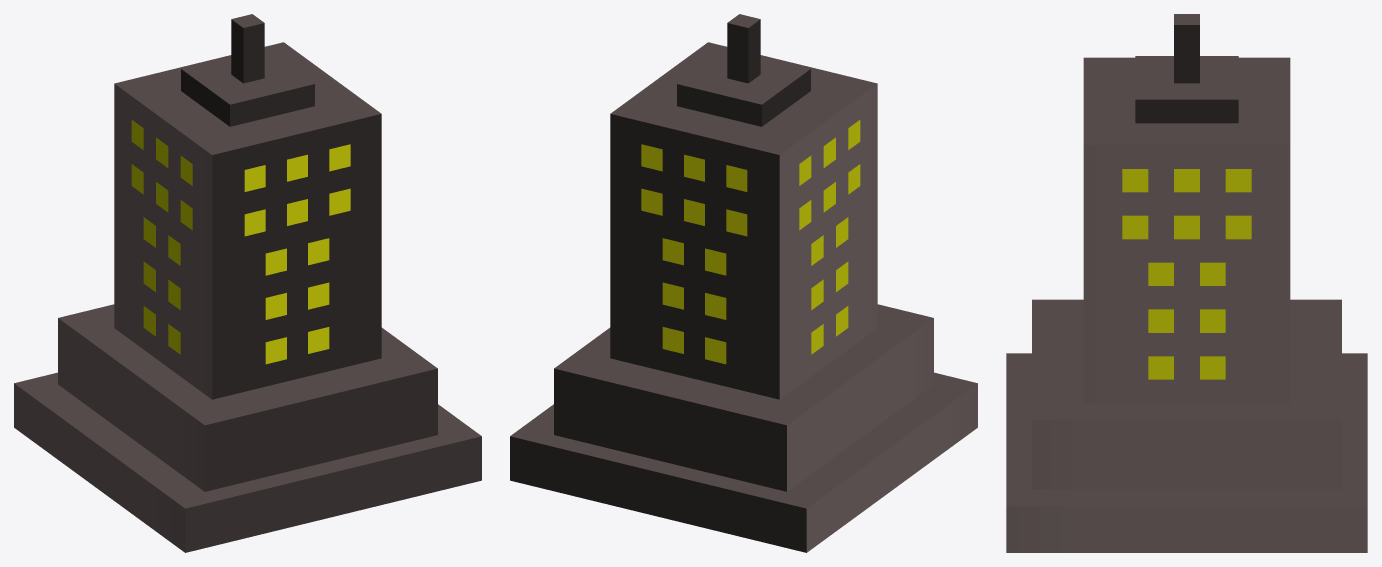
The model's file is HQ.OrangeStar.NoirEclipse.glb.
3 views of the same model, side by side, from view 1: azimuth 30°, elevation 25°; view 2: azimuth 150°, elevation 25°; view 3: azimuth 270°, elevation 25° (orthographic). The views are drawn at different scales.
Visible parts, largest first — view 1: HQ.OrangeStar.NoirEclipse; view 2: HQ.OrangeStar.NoirEclipse; view 3: HQ.OrangeStar.NoirEclipse.
Boxes of the visible parts, x1,y1,x2,y2 form: HQ.OrangeStar.NoirEclipse: (14,14,481,552); HQ.OrangeStar.NoirEclipse: (510,14,977,552); HQ.OrangeStar.NoirEclipse: (1006,14,1367,552).
Size of the model in its own units: 2.8 by 3.91 by 2.8.
Materials: 2 (1 with a texture image).
